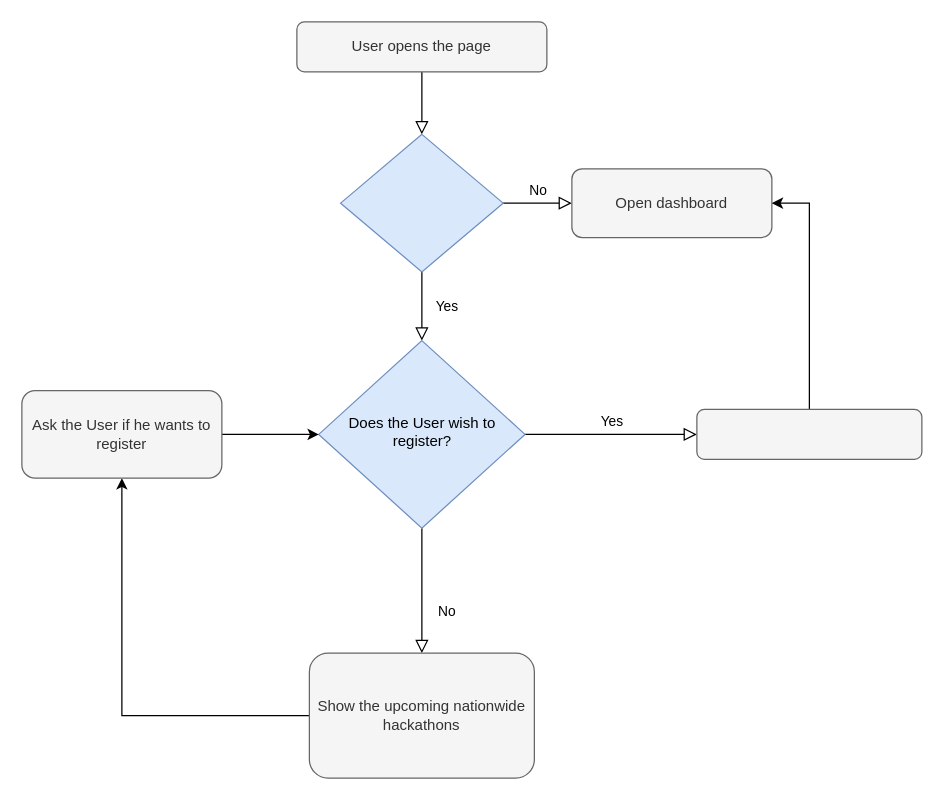
This 944x800 diagram has some shape labels left out. Here are the shapes that lost their labels. From the top down, the box of each, then its label:
(339, 133, 503, 272): New User
(696, 408, 922, 459): Register the User
